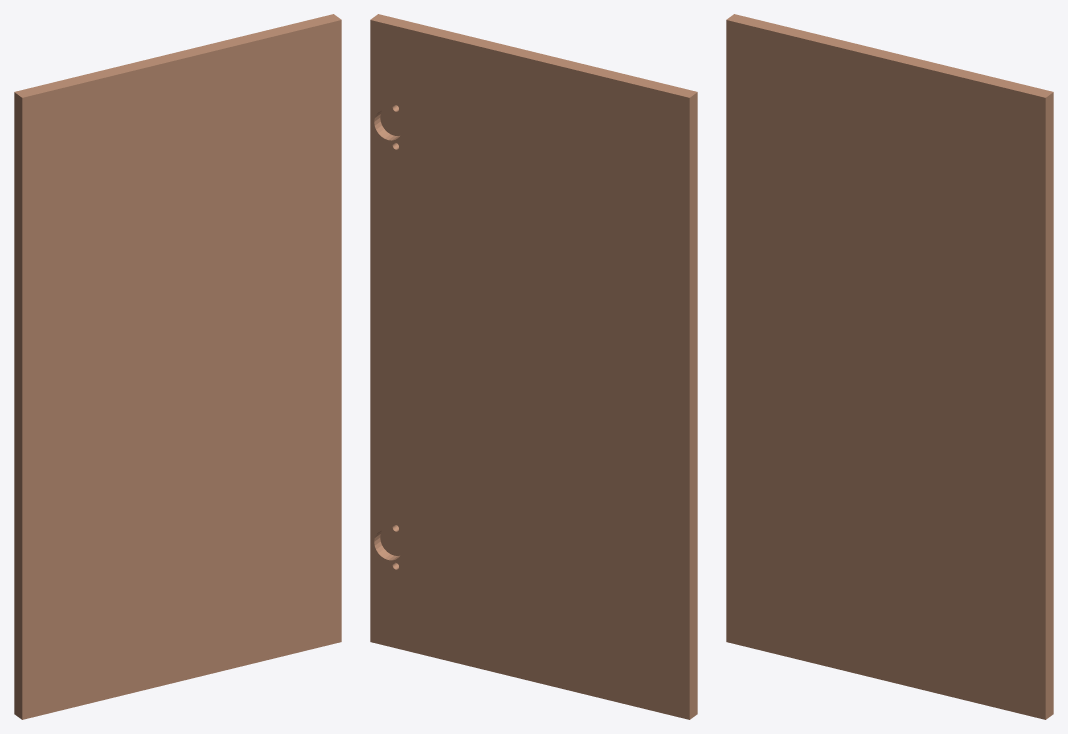
File: B3_dor_hoyre.glb
3 views of the same model, side by side, from view 1: azimuth 30°, elevation 25°; view 2: azimuth 150°, elevation 25°; view 3: azimuth 330°, elevation 25° (orthographic).
Bounding box in the file's own units: 397 × 738 × 17.4.
